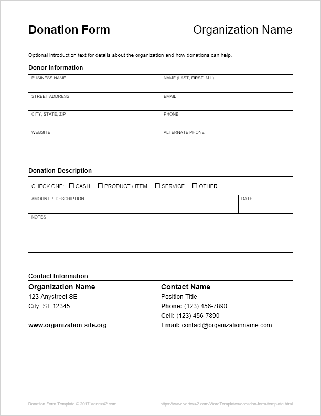checkbox: (68, 182, 75, 189), (192, 182, 199, 189), (155, 182, 161, 189), (98, 182, 103, 189)
textbox: (26, 211, 296, 254), (27, 193, 241, 215), (161, 72, 294, 95), (26, 73, 163, 95), (159, 127, 296, 149), (160, 91, 295, 112), (160, 109, 295, 130), (26, 110, 163, 130), (26, 128, 163, 148), (27, 92, 163, 112), (237, 193, 295, 215)
